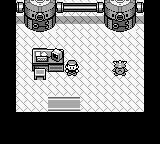leer: (33, 49, 64, 72)
main: (65, 60, 79, 76)
no-caminable: (17, 2, 144, 32)
npc: (112, 60, 129, 76)
puerta: (46, 95, 83, 112)
